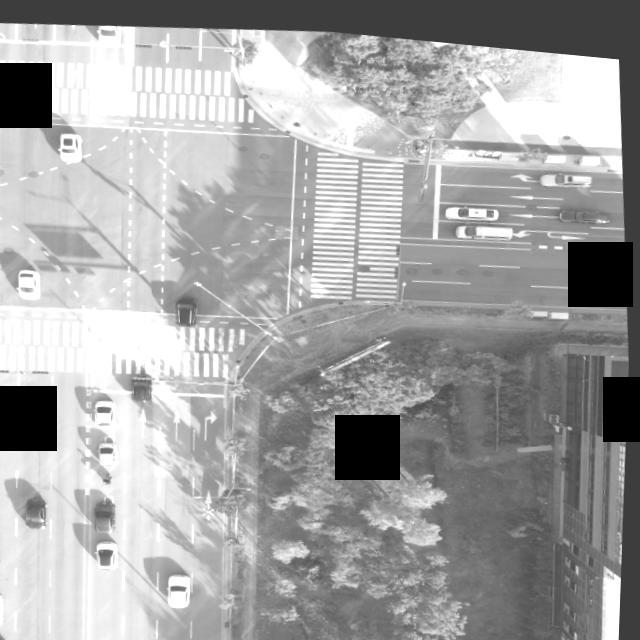car: (455, 209, 516, 232), (539, 156, 595, 178), (559, 192, 615, 214), (447, 190, 502, 212), (23, 491, 53, 531), (170, 568, 198, 604), (57, 129, 86, 163), (93, 497, 120, 531), (18, 266, 44, 300), (176, 291, 203, 323), (99, 536, 124, 565), (132, 370, 157, 398), (95, 20, 121, 46), (97, 398, 120, 424), (100, 438, 124, 461), (0, 55, 4, 92)
